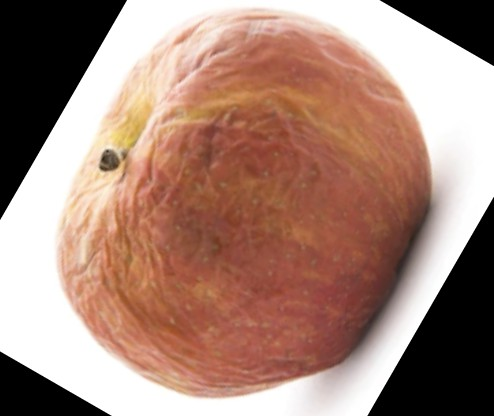rotten_apple: (58, 9, 433, 402)
